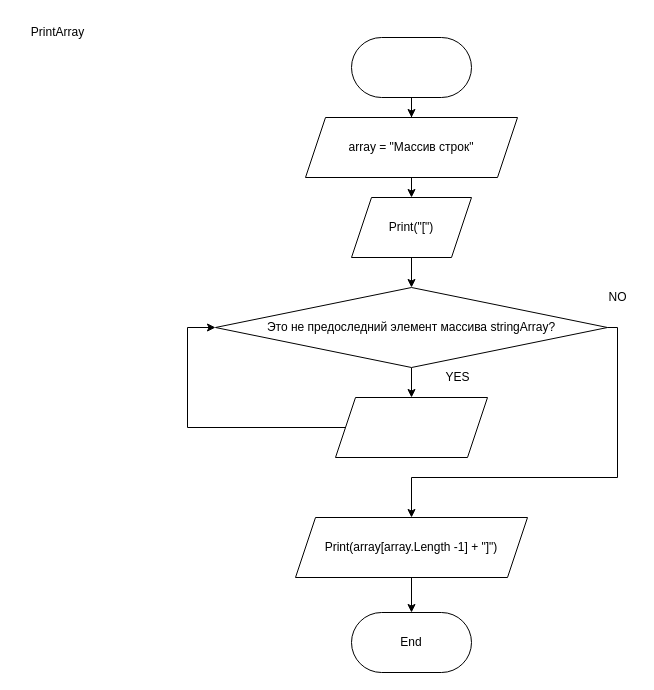
This 654x690 diagram has some shape labels left out. Here are the shapes that lost their labels. From the top down, the centre of each, then its label:
[411,67]: Start
[411,427]: Print(array[i] + ", ")
